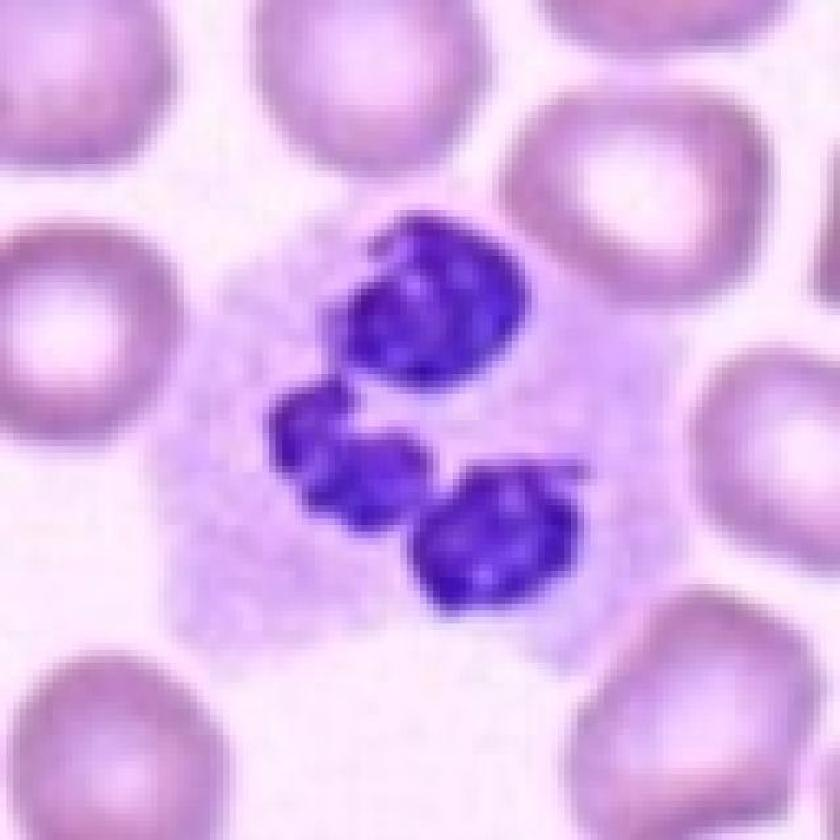neutrophil: (109, 184, 684, 675)
